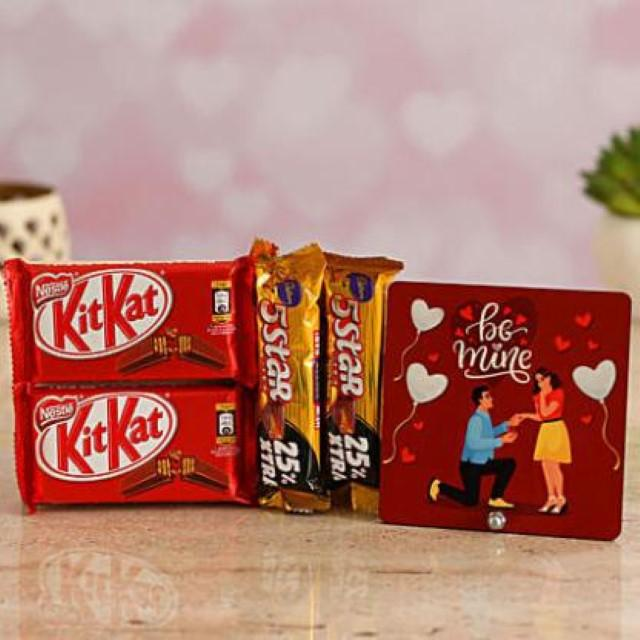kitkat_chocolate: (10, 377, 262, 515), (20, 254, 252, 394)
